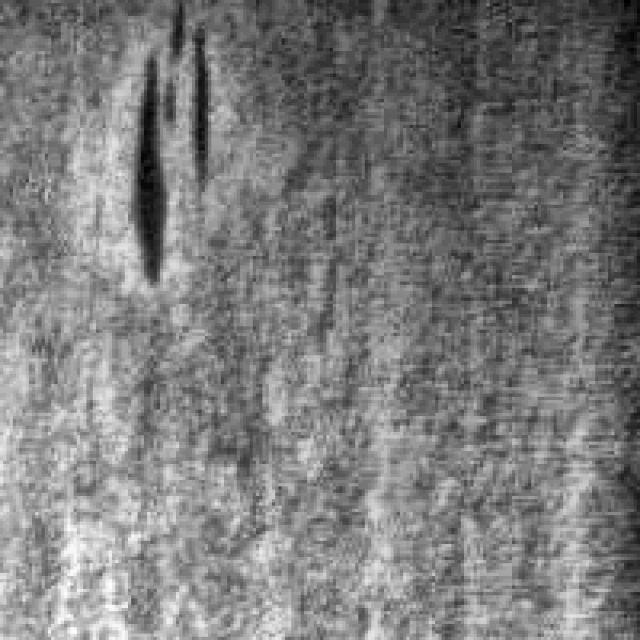Patches: (109, 0, 228, 288)
